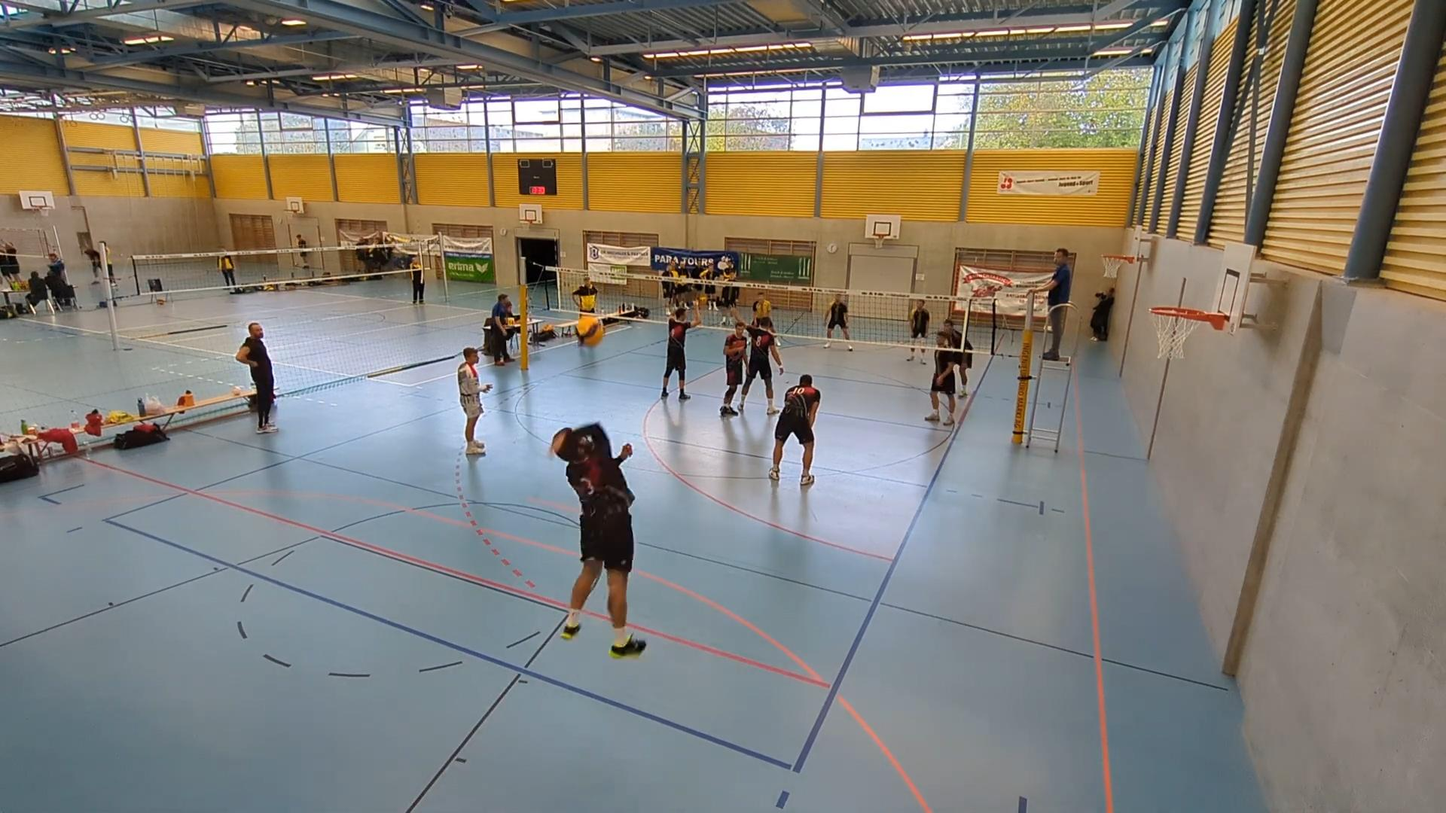Player: (769, 375, 820, 486), (739, 318, 783, 415), (457, 347, 492, 454), (661, 308, 700, 400), (926, 331, 962, 425), (720, 321, 749, 416), (824, 294, 852, 351), (909, 300, 929, 363), (752, 291, 771, 325)
Serve: (548, 416, 644, 660)
ball: (575, 313, 605, 345)
